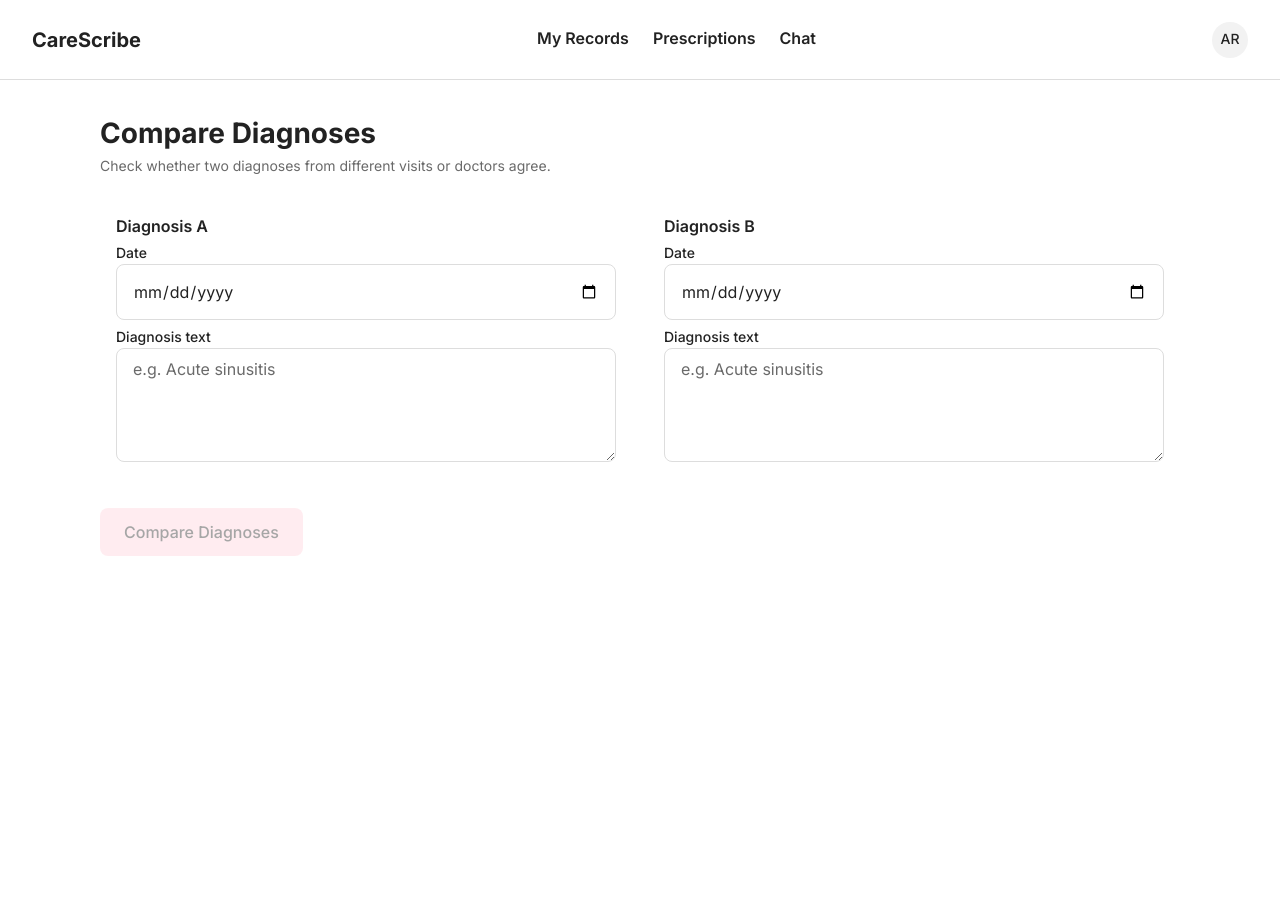
Test case: diagnosis comparator › shows agreement result with green check
Type "2026-09-01" into the 1st date field labelled "Date". click: [366, 292]
box: [116,264,616,320]
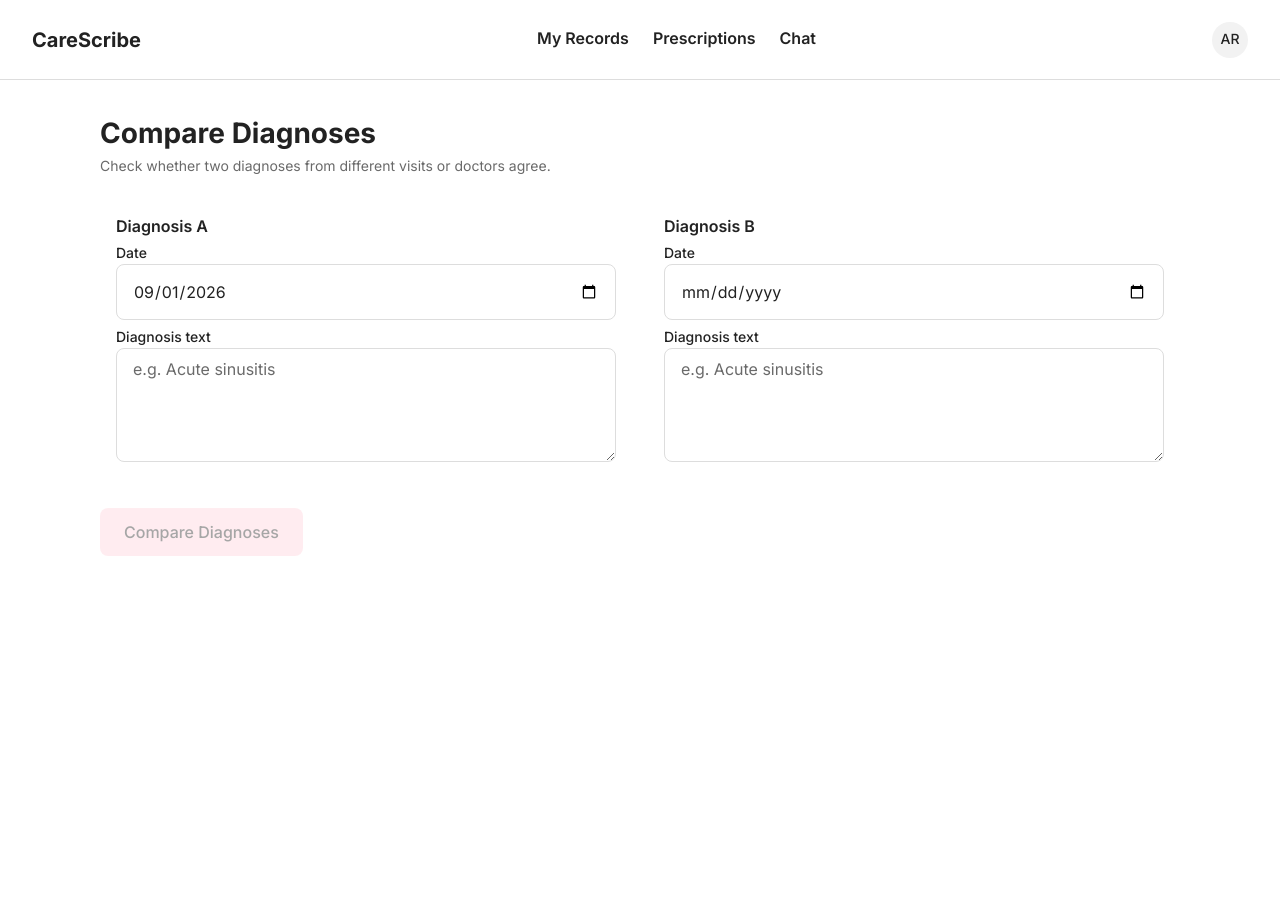
Type "2026-09-10" into the 2nd date field labelled "Date". click: [914, 292]
box: [664,264,1164,320]
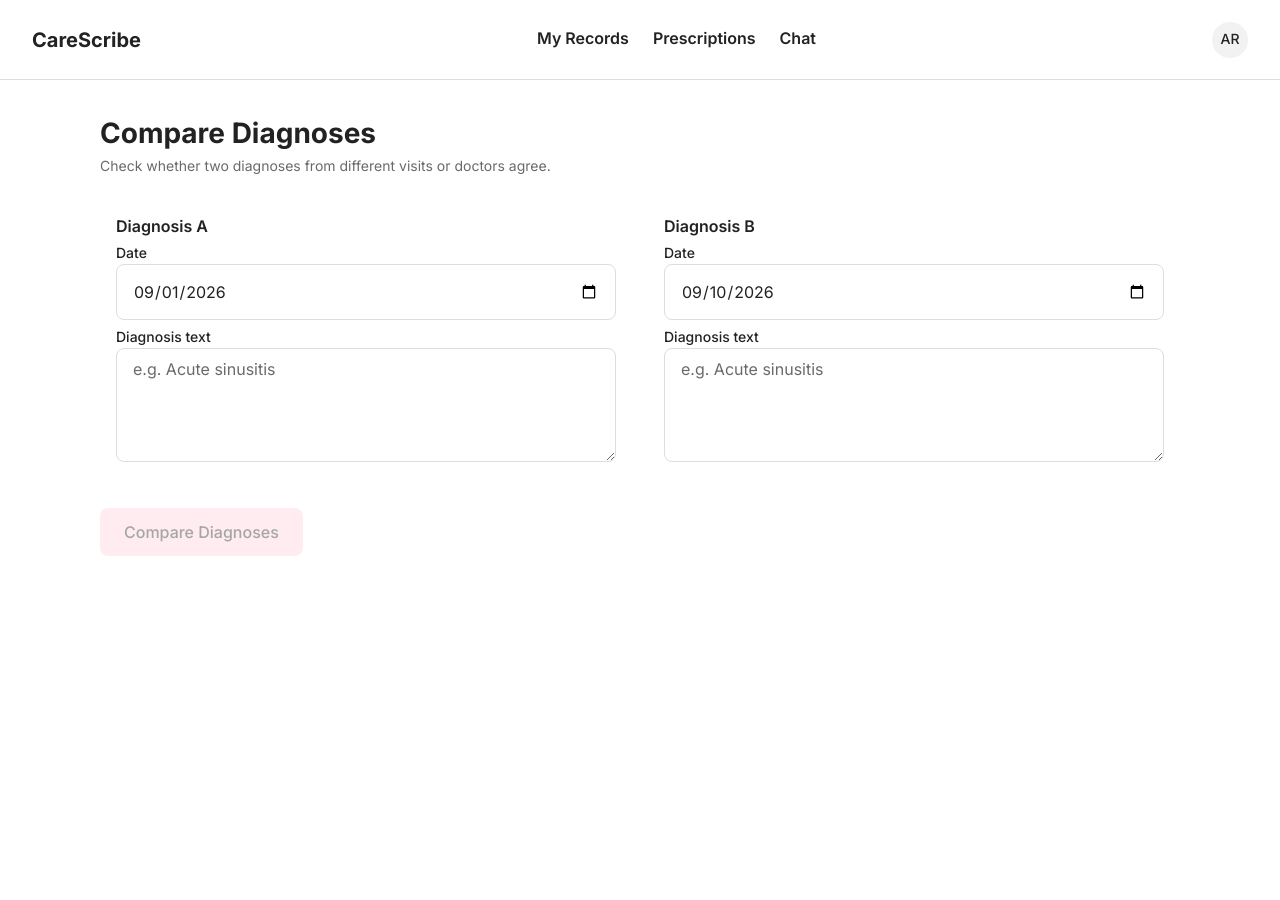
Type "Acute sinusitis" into the 1st text box labelled "Diagnosis text". click: [366, 405]
box: [116,348,616,462]
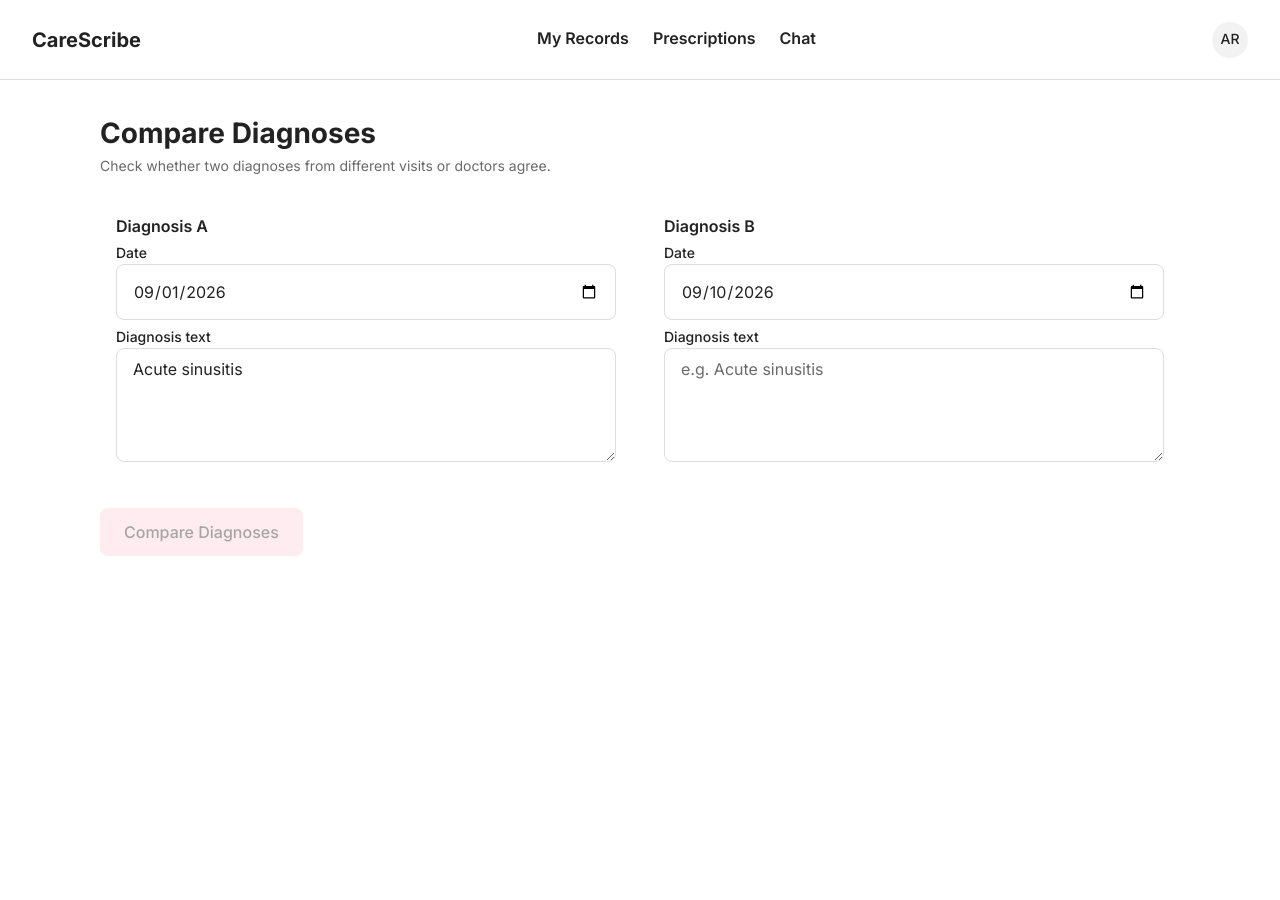
Type "Bacterial sinusitis" into the 2nd text box labelled "Diagnosis text". click: [914, 405]
box: [664,348,1164,462]
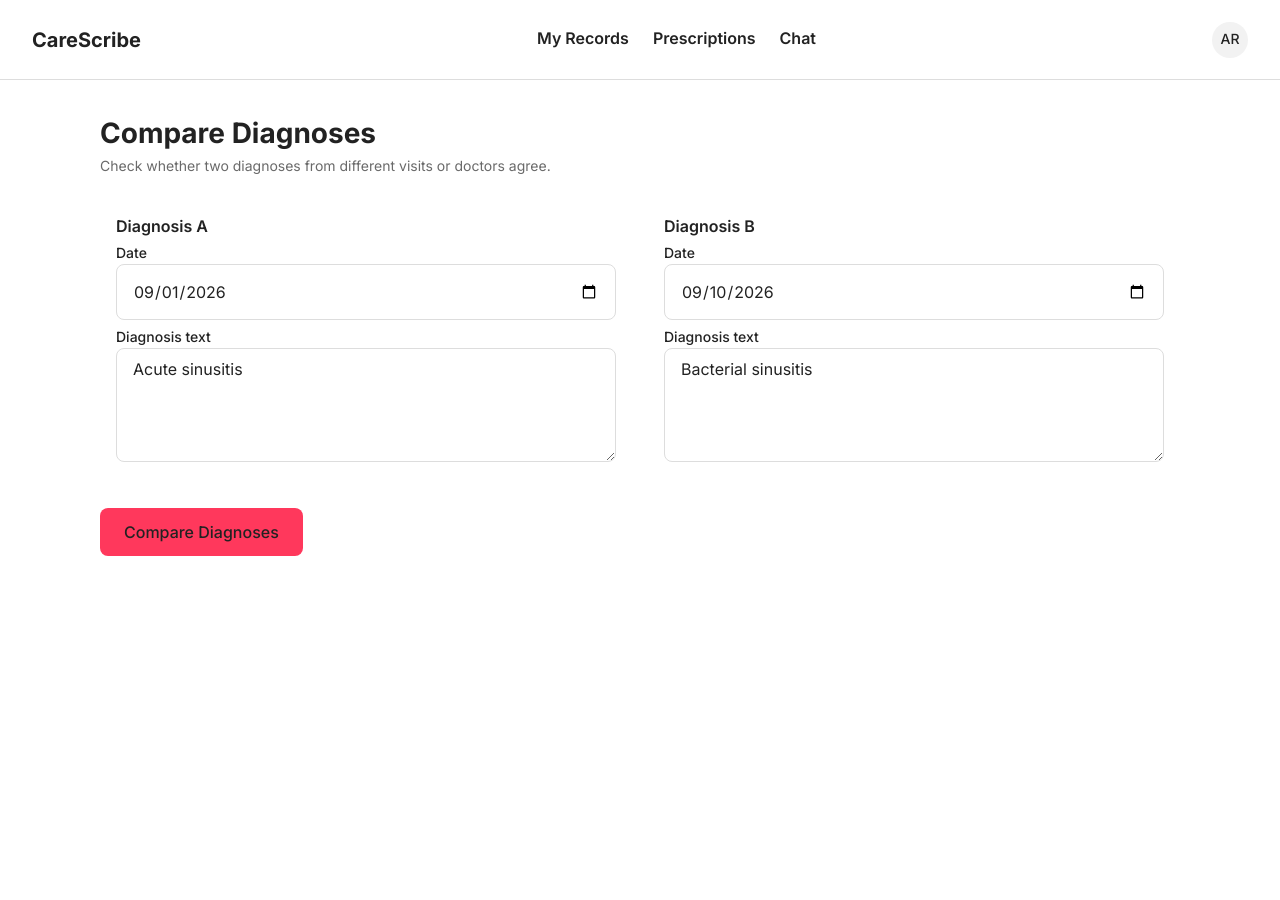
Click the button "Compare Diagnoses". click: [201, 532]
box: [100,508,303,556]
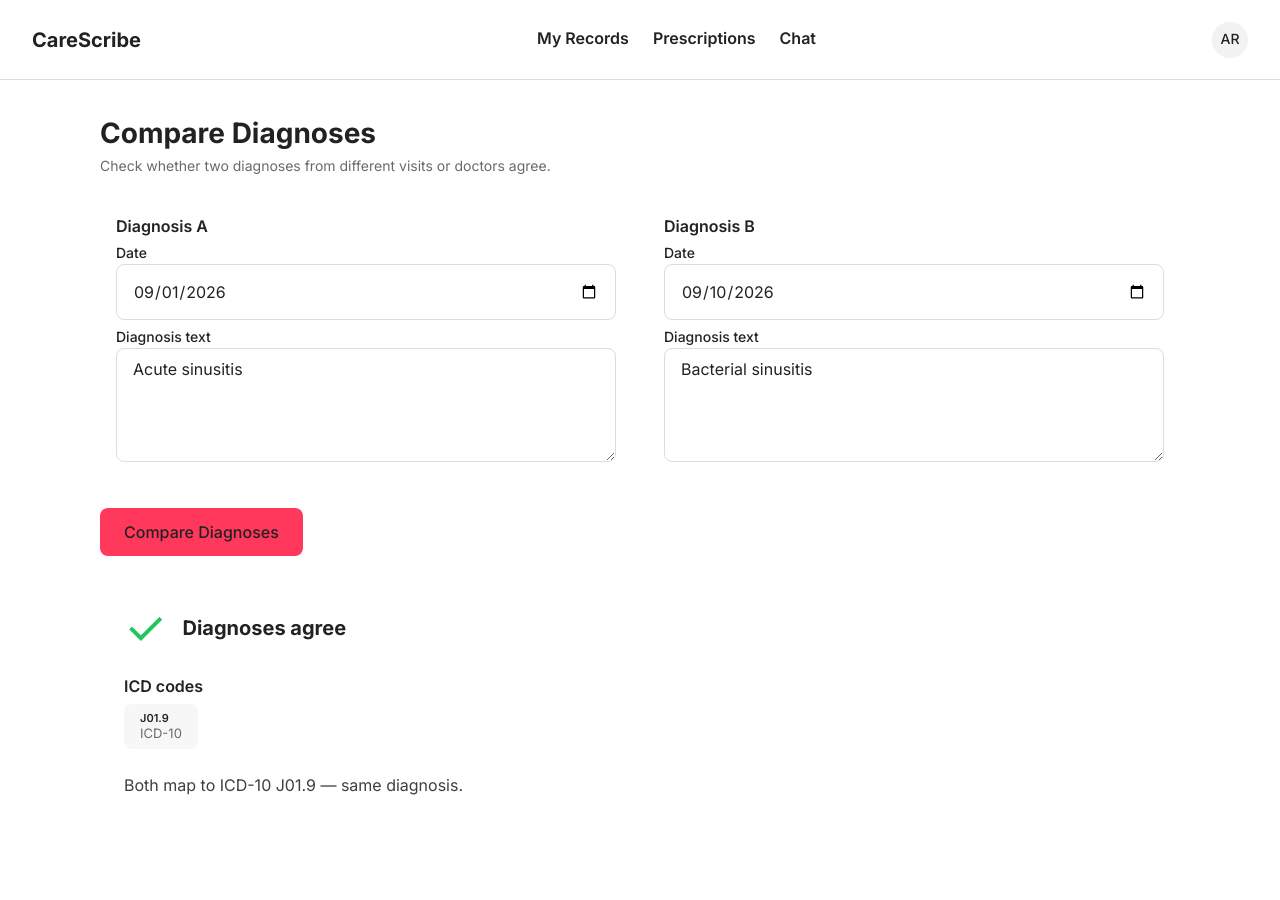
Check: the text "Diagnoses agree" is shown, box [182,613,346,643]
Check: the text "J01.9" is shown, box [140,711,169,725]
Check: the text "Both map to ICD-10 J01.9 — same diagnosis." is shown, box [124,775,463,795]
